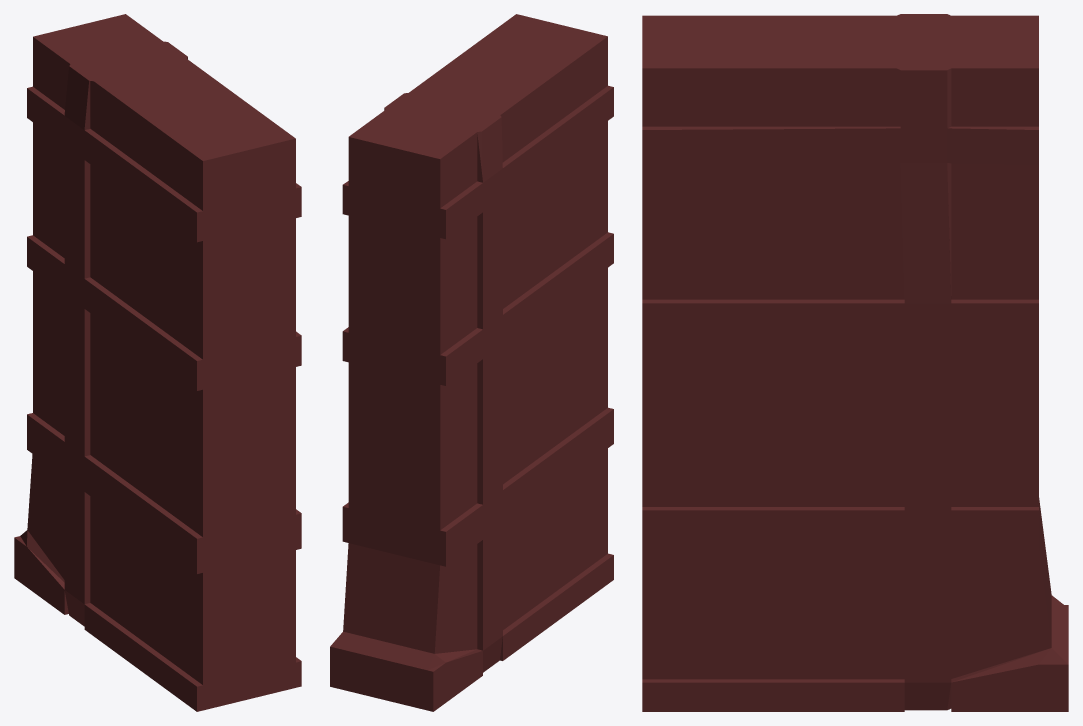
File: Magazine_4.fbx
3 renders of one model, left to right at view 1: azimuth 30°, elevation 25°; view 2: azimuth 150°, elevation 25°; view 3: azimuth 270°, elevation 25°, orthographic. The views are drawn at different scales.
Visible parts, largest first — view 1: Magazine_4; view 2: Magazine_4; view 3: Magazine_4.
Boxes of the visible parts, x1,y1,x2,y2 form: Magazine_4: (14,14,301,711); Magazine_4: (330,14,613,711); Magazine_4: (642,14,1068,711).
Bounding box in the file's own units: 0.1522 × 0.7629 × 0.4602.
